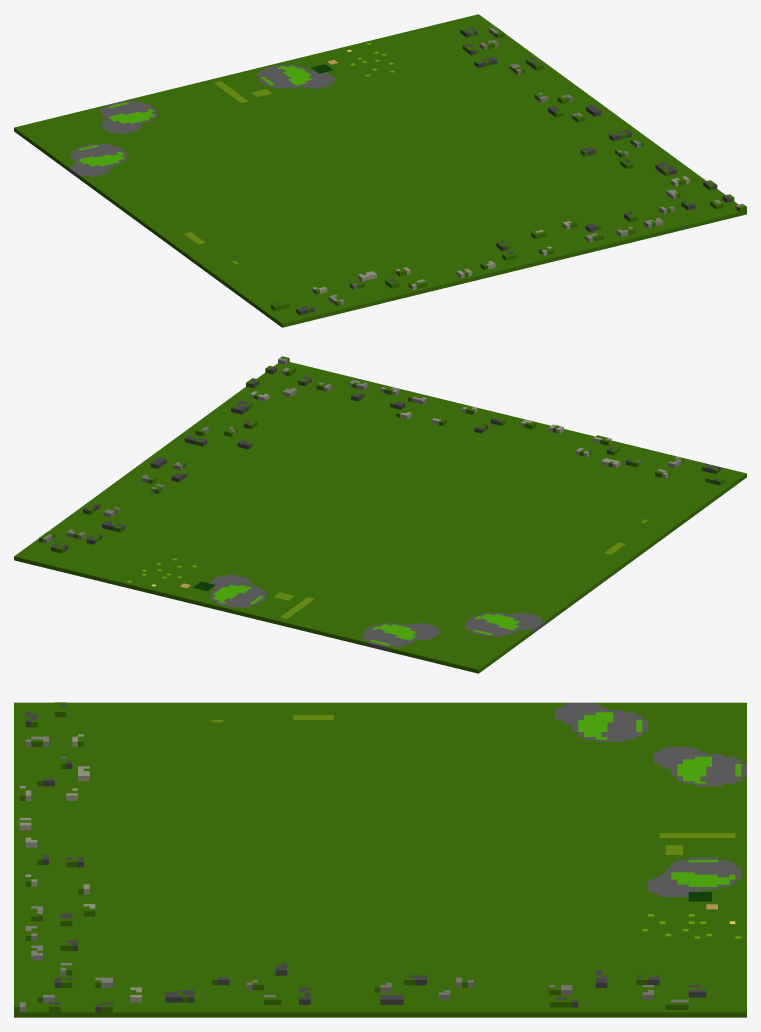
File: tiles 2 sol.obj
3 views of the same model, one above another, from view 1: azimuth 30°, elevation 25°; view 2: azimuth 150°, elevation 25°; view 3: azimuth 270°, elevation 25° (orthographic). The views are drawn at different scales.
Visible parts, largest first — view 1: tiles 2 sol; view 2: tiles 2 sol; view 3: tiles 2 sol.
Boxes of the visible parts, x1,y1,x2,y2 form: tiles 2 sol: (14,14,746,327); tiles 2 sol: (14,356,746,673); tiles 2 sol: (14,702,746,1017).
Size of the model in its own units: 126 by 2 by 126.
1 material, 1 textured.
